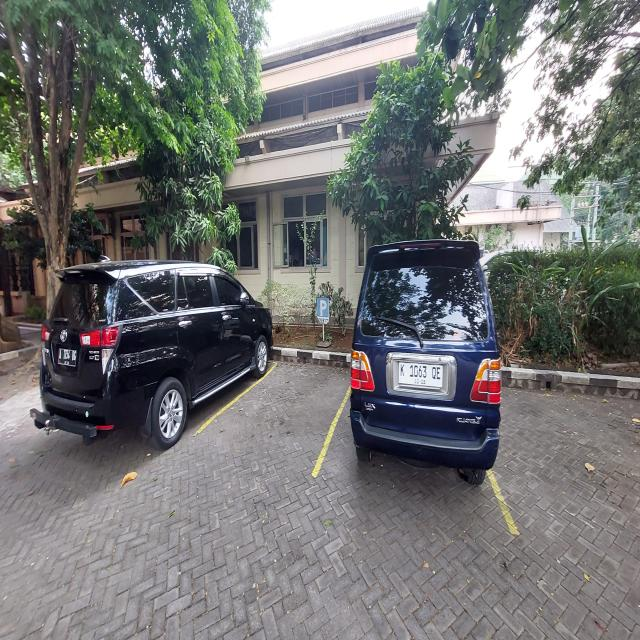empty: (494, 386, 640, 535), (195, 362, 355, 475)
occupied: (315, 237, 513, 531), (29, 260, 276, 458)
